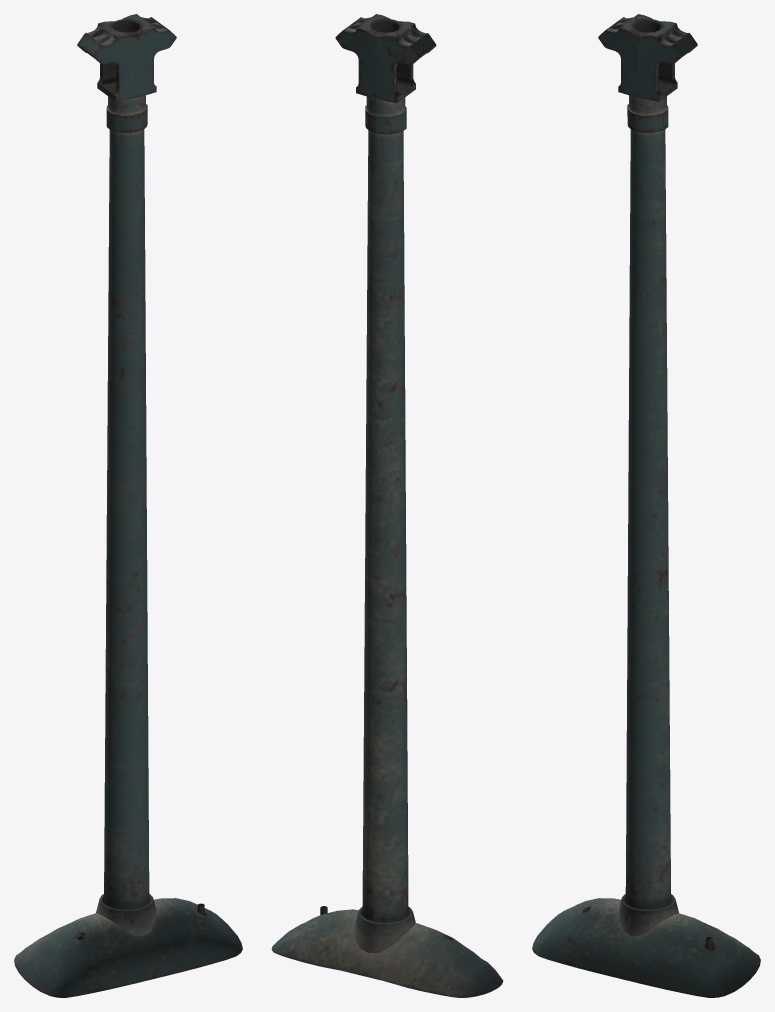
The model's file is Gun_03.glb.
3 views of the same model, side by side, from view 1: azimuth 30°, elevation 25°; view 2: azimuth 150°, elevation 25°; view 3: azimuth 330°, elevation 25° (orthographic).
Visible parts, largest first — view 1: set_0_group_0; view 2: set_0_group_0; view 3: set_0_group_0.
Boxes of the visible parts, x1,y1,x2,y2 form: set_0_group_0: [14, 14, 242, 997]; set_0_group_0: [271, 14, 503, 997]; set_0_group_0: [532, 14, 760, 997].
Size of the model in its own units: 0.9569 by 4.12 by 0.4042.
1 material, 1 textured.
